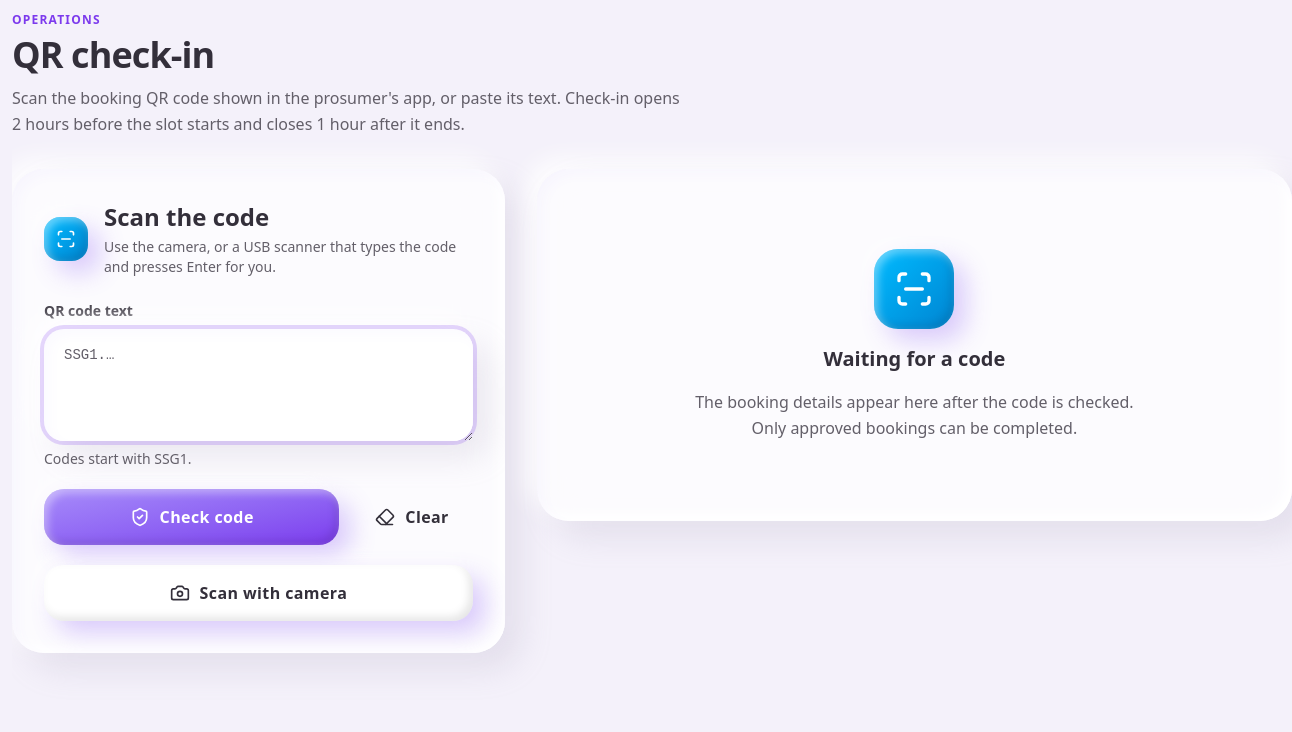
Test: CheckInPage › explains why a booking cannot be completed yet
Type "SSG1.66e9a1b2c3d4e5f601234567.A1B2C3D4E5F60718.c2lnbmF0dXJl" into the text box labelled "QR code text" at [258, 385], box [44,329,473,441]
Then press Enter
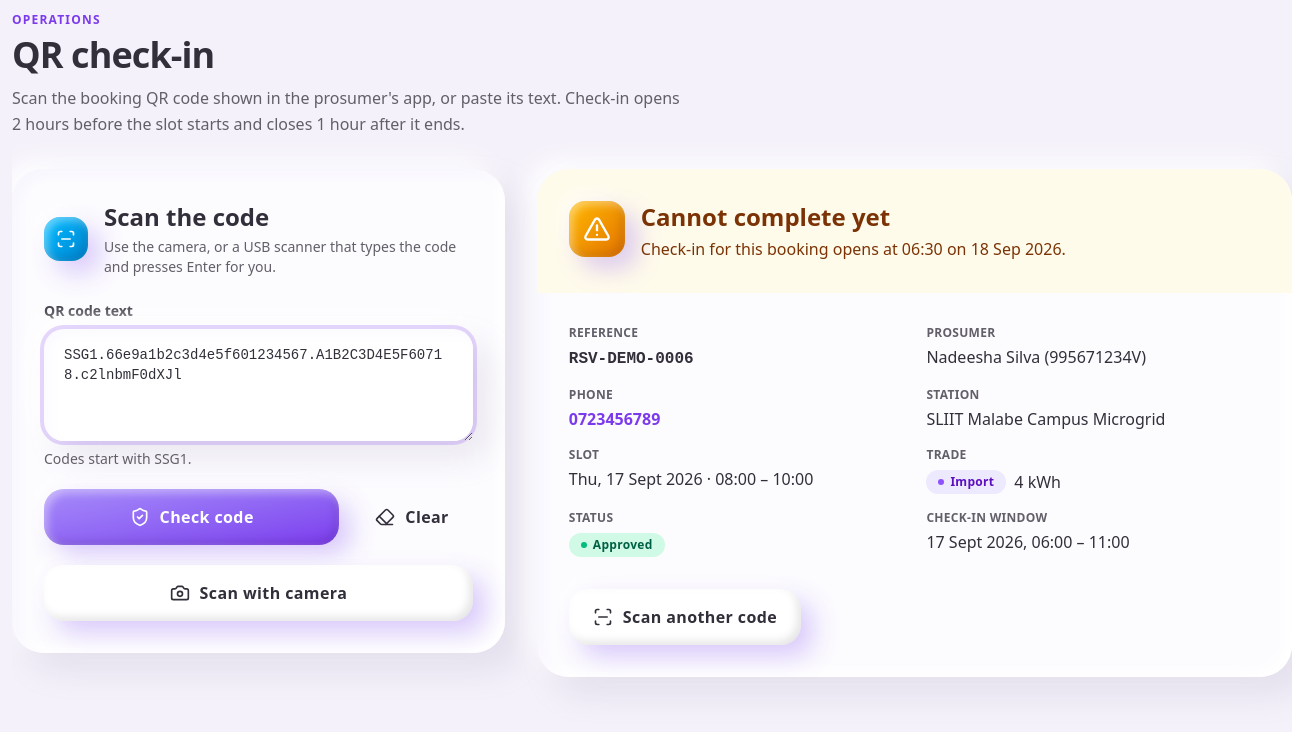
Expected: the text "Cannot complete yet" is shown, [641,200,890,233]
Expected: the text "Check-in for this booking opens at 06:30 on 18 Sep 2026." is shown, [641,237,1066,261]
